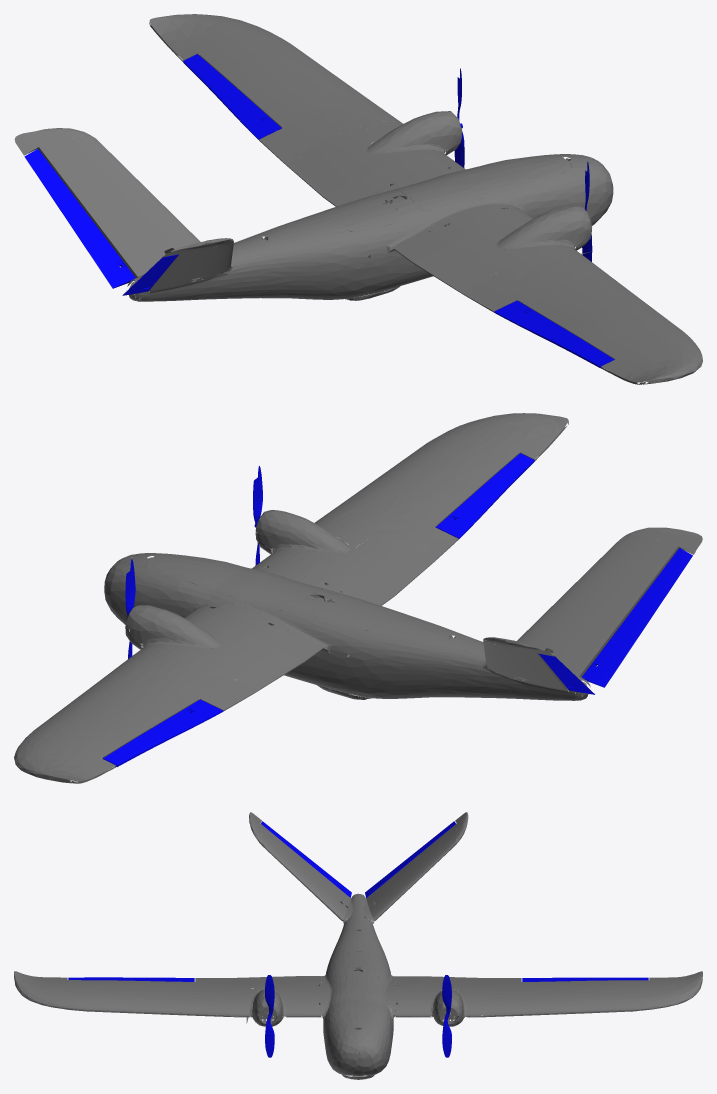
The model's file is believer.glb.
3 renders of one model, top to bottom at view 1: azimuth 30°, elevation 25°; view 2: azimuth 150°, elevation 25°; view 3: azimuth 270°, elevation 25°, orthographic. The views are drawn at different scales.
Parts seen in each view (by area): view 1: base_link_v0, elevator_l_v0, elevon_l_v0, elevon_r_v0, elevator_r_v0; view 2: base_link_v0, elevator_r_v0, elevon_r_v0, elevon_l_v0, elevator_l_v0; view 3: base_link_v0, rotor_right_v0, rotor_left_v0, elevator_l_v0, elevator_r_v0, elevon_l_v0, elevon_r_v0.
Boxes of the visible parts, x1,y1,x2,y2 form: base_link_v0: [14, 14, 702, 384]; elevator_l_v0: [24, 149, 135, 288]; elevon_l_v0: [183, 54, 281, 139]; elevon_r_v0: [494, 300, 614, 367]; elevator_r_v0: [122, 254, 178, 295]; base_link_v0: [14, 413, 702, 783]; elevator_r_v0: [581, 548, 692, 687]; elevon_r_v0: [436, 453, 534, 538]; elevon_l_v0: [103, 699, 223, 766]; elevator_l_v0: [538, 653, 594, 694]; base_link_v0: [14, 812, 702, 1079]; rotor_right_v0: [265, 975, 274, 1057]; rotor_left_v0: [442, 975, 451, 1057]; elevator_l_v0: [365, 821, 455, 897]; elevator_r_v0: [261, 821, 351, 897]; elevon_l_v0: [522, 977, 648, 981]; elevon_r_v0: [68, 977, 194, 981].
Size of the model in its own units: 1.17 by 0.3542 by 1.94.
